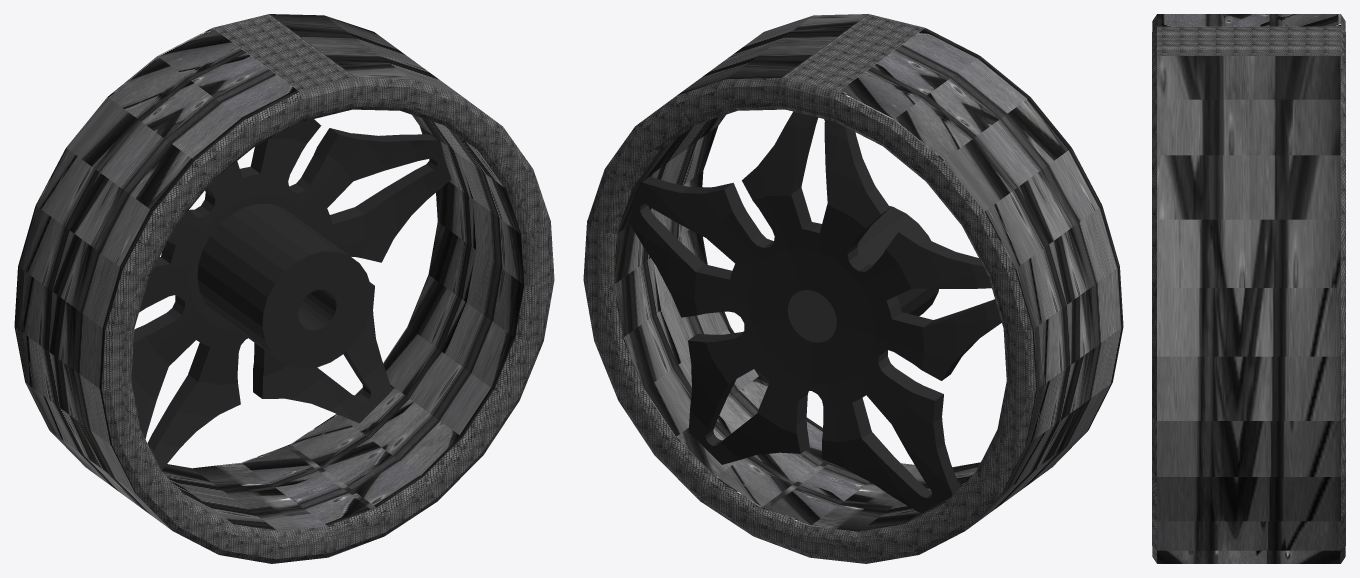
The model's file is llantaAIz.fbx.
3 renders of one model, left to right at view 1: azimuth 30°, elevation 25°; view 2: azimuth 150°, elevation 25°; view 3: azimuth 270°, elevation 25°, orthographic. The views are drawn at different scales.
Parts seen in each view (by area): view 1: Group1; view 2: Group1; view 3: Group1.
Part boxes in pixels (<box>): Group1: <box>14,14,554,563</box>; Group1: <box>583,14,1123,563</box>; Group1: <box>1152,14,1345,563</box>.
Bounding box in the file's own units: 30.69 × 30.63 × 10.81.
Materials: 3 (1 with a texture image).
